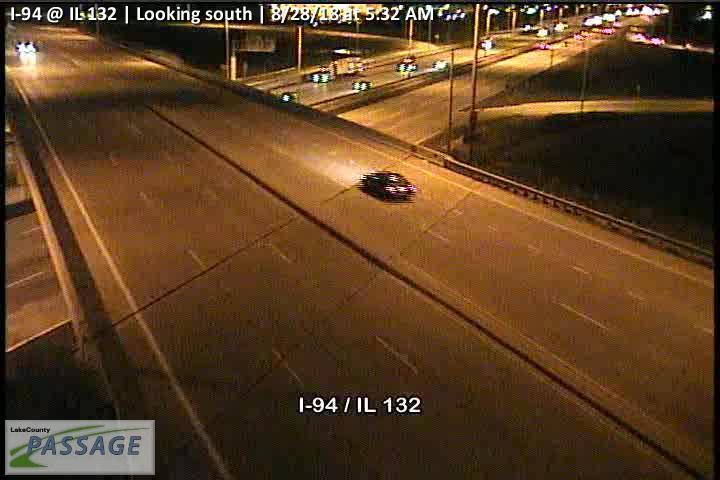Sedan: (359, 172, 416, 201)
